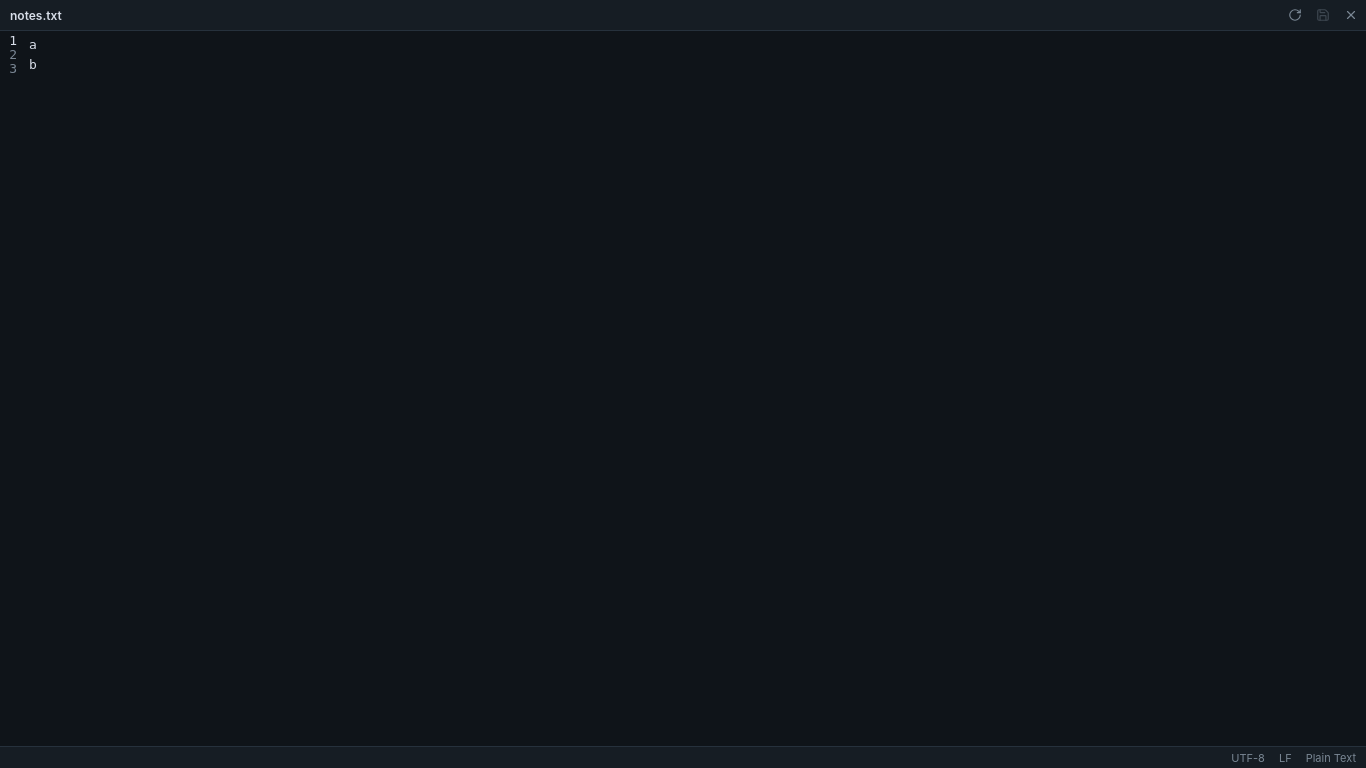
it: FileViewer status bar: encoding, line endings and language › converts the line endings, which is an edit to save
Click the button "LF" at {"x": 1285, "y": 758}, box [1279,750,1292,764]
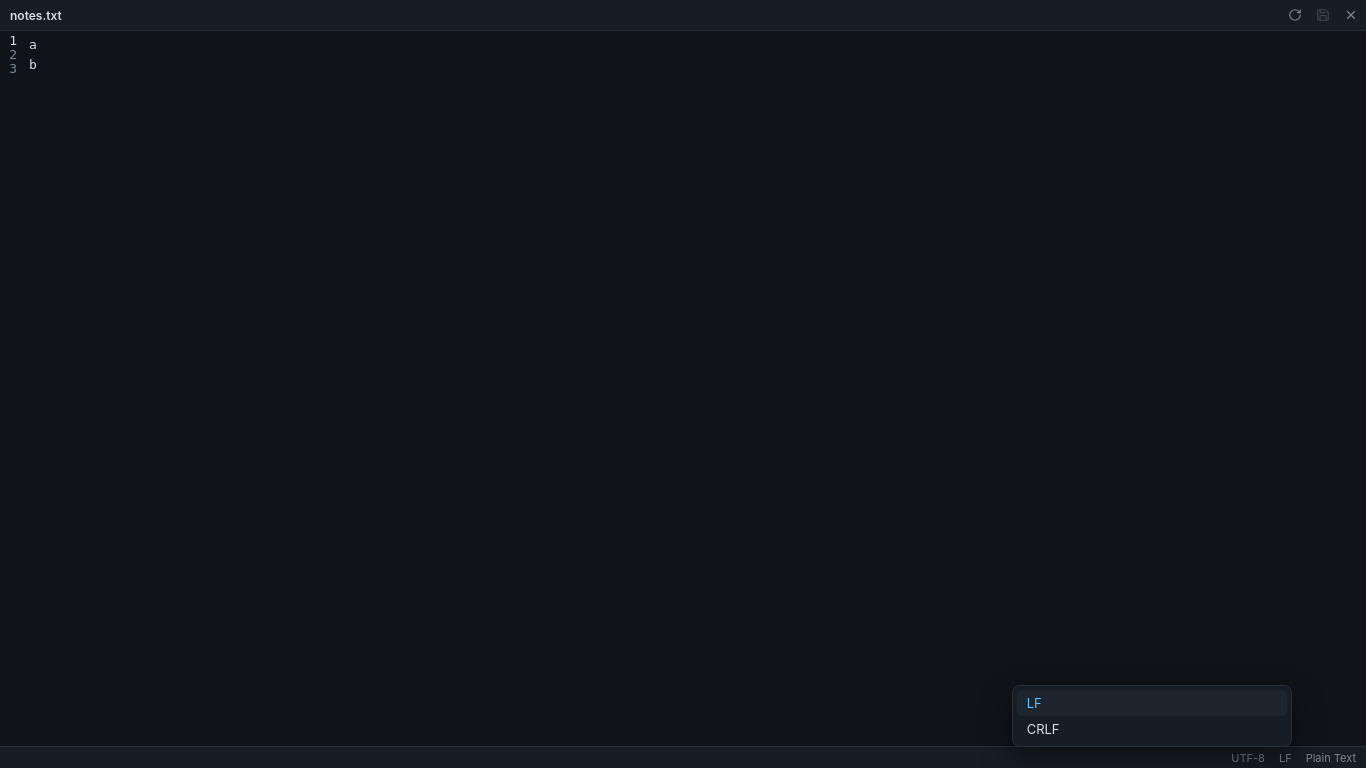
Click the option "CRLF" at {"x": 1043, "y": 728}, box [1017,716,1287,742]
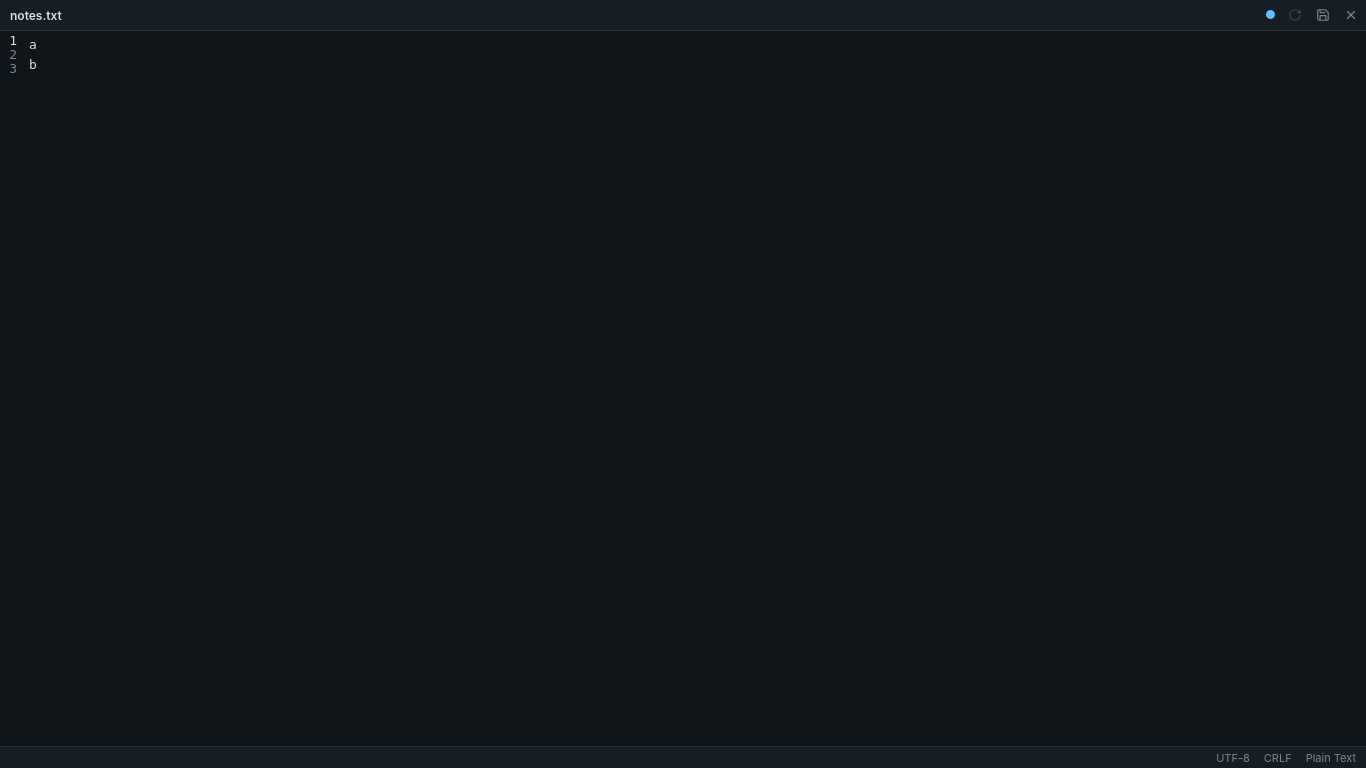
Expected: the text named "Unsaved changes" is shown, [1265,9,1276,21]
Expected: the button "CRLF" is shown, [1264,750,1292,764]
Click the button named "Save" at {"x": 1321, "y": 15}, box [1310,4,1332,26]
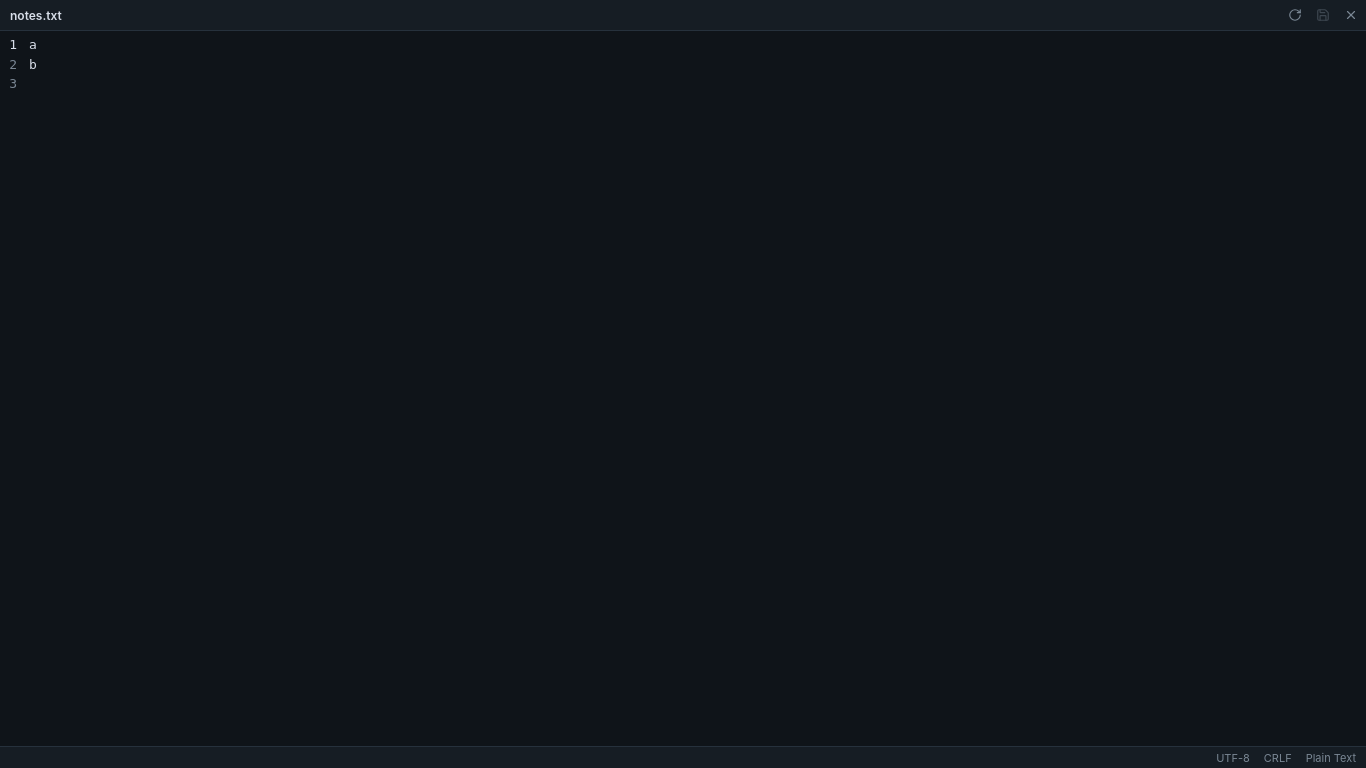
Click the button "CRLF" at {"x": 1278, "y": 758}, box [1264,750,1292,764]
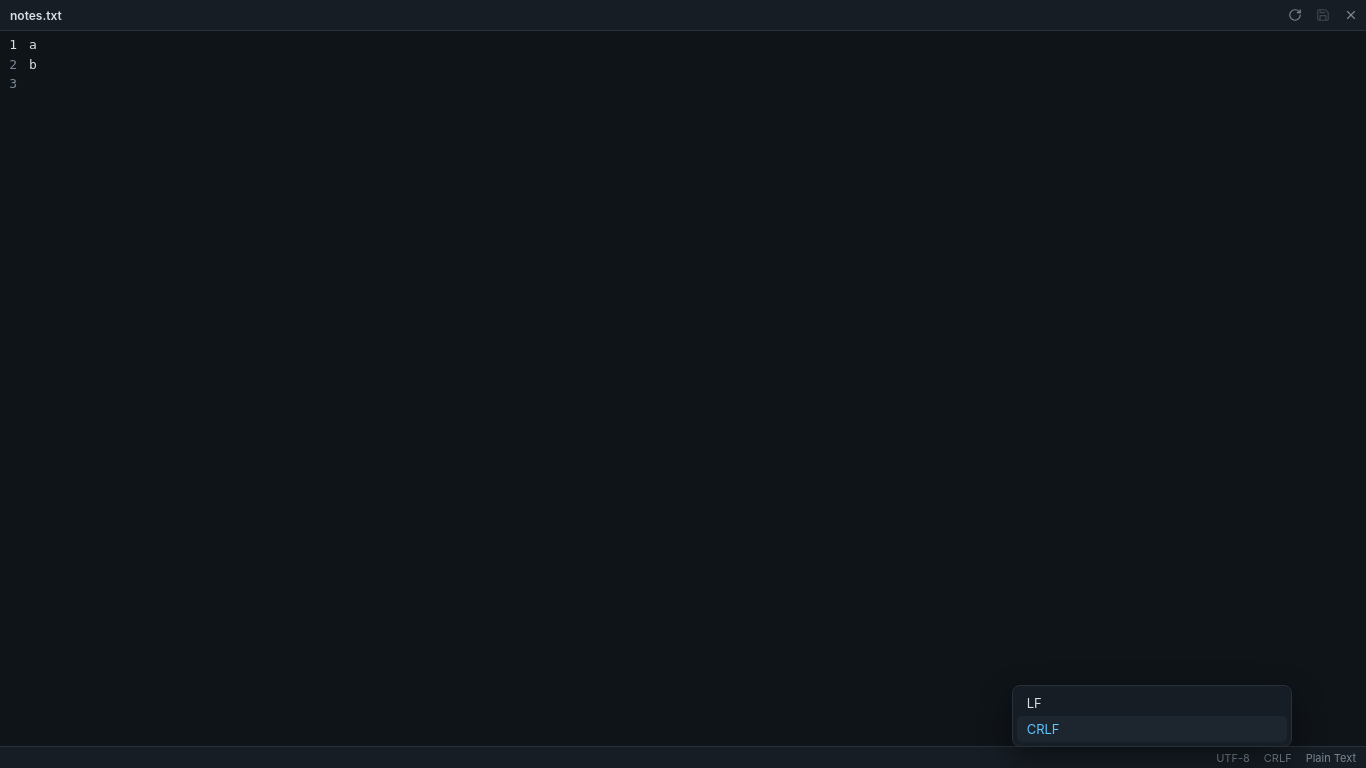
Click the option "LF" at {"x": 1034, "y": 702}, box [1017,690,1287,716]
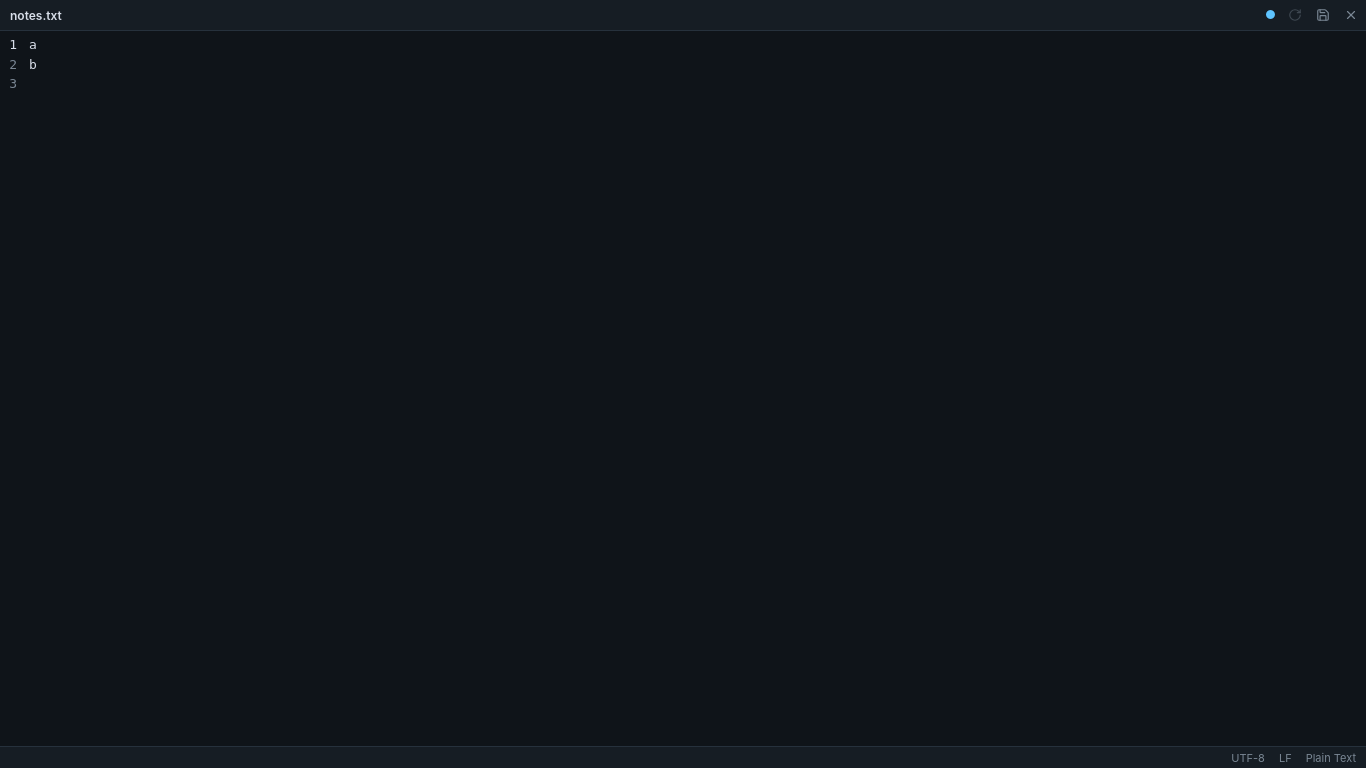
Expected: the text named "Unsaved changes" is shown, [1265,9,1276,21]
